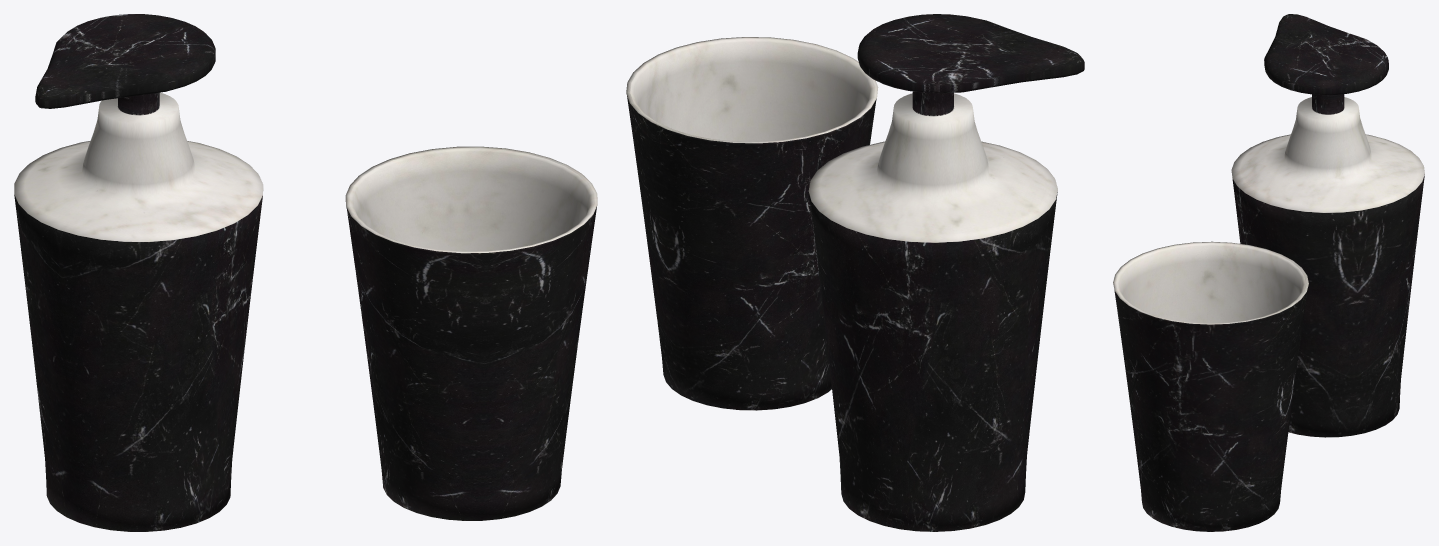
File: fluessigseife.fbx
3 renders of one model, left to right at view 1: azimuth 30°, elevation 25°; view 2: azimuth 150°, elevation 25°; view 3: azimuth 270°, elevation 25°, orthographic. The views are drawn at different scales.
Parts seen in each view (by area): view 1: Soap_1_Cylinder_004, Cup_Cylinder_001, Soap_2_Cylinder_006; view 2: Soap_1_Cylinder_004, Cup_Cylinder_001, Soap_2_Cylinder_006; view 3: Cup_Cylinder_001, Soap_1_Cylinder_004, Soap_2_Cylinder_006.
Boxes of the visible parts, x1=… form: Soap_1_Cylinder_004: x1=14, y1=92, x2=263, y2=531; Cup_Cylinder_001: x1=345, y1=146, x2=597, y2=520; Soap_2_Cylinder_006: x1=35, y1=14, x2=215, y2=108; Soap_1_Cylinder_004: x1=808, y1=91, x2=1057, y2=531; Cup_Cylinder_001: x1=626, y1=37, x2=878, y2=410; Soap_2_Cylinder_006: x1=857, y1=14, x2=1084, y2=93; Cup_Cylinder_001: x1=1113, y1=241, x2=1308, y2=531; Soap_1_Cylinder_004: x1=1231, y1=94, x2=1424, y2=437; Soap_2_Cylinder_006: x1=1264, y1=14, x2=1388, y2=95.
Bounding box in the file's own units: 2.01 × 1.75 × 1.42.
